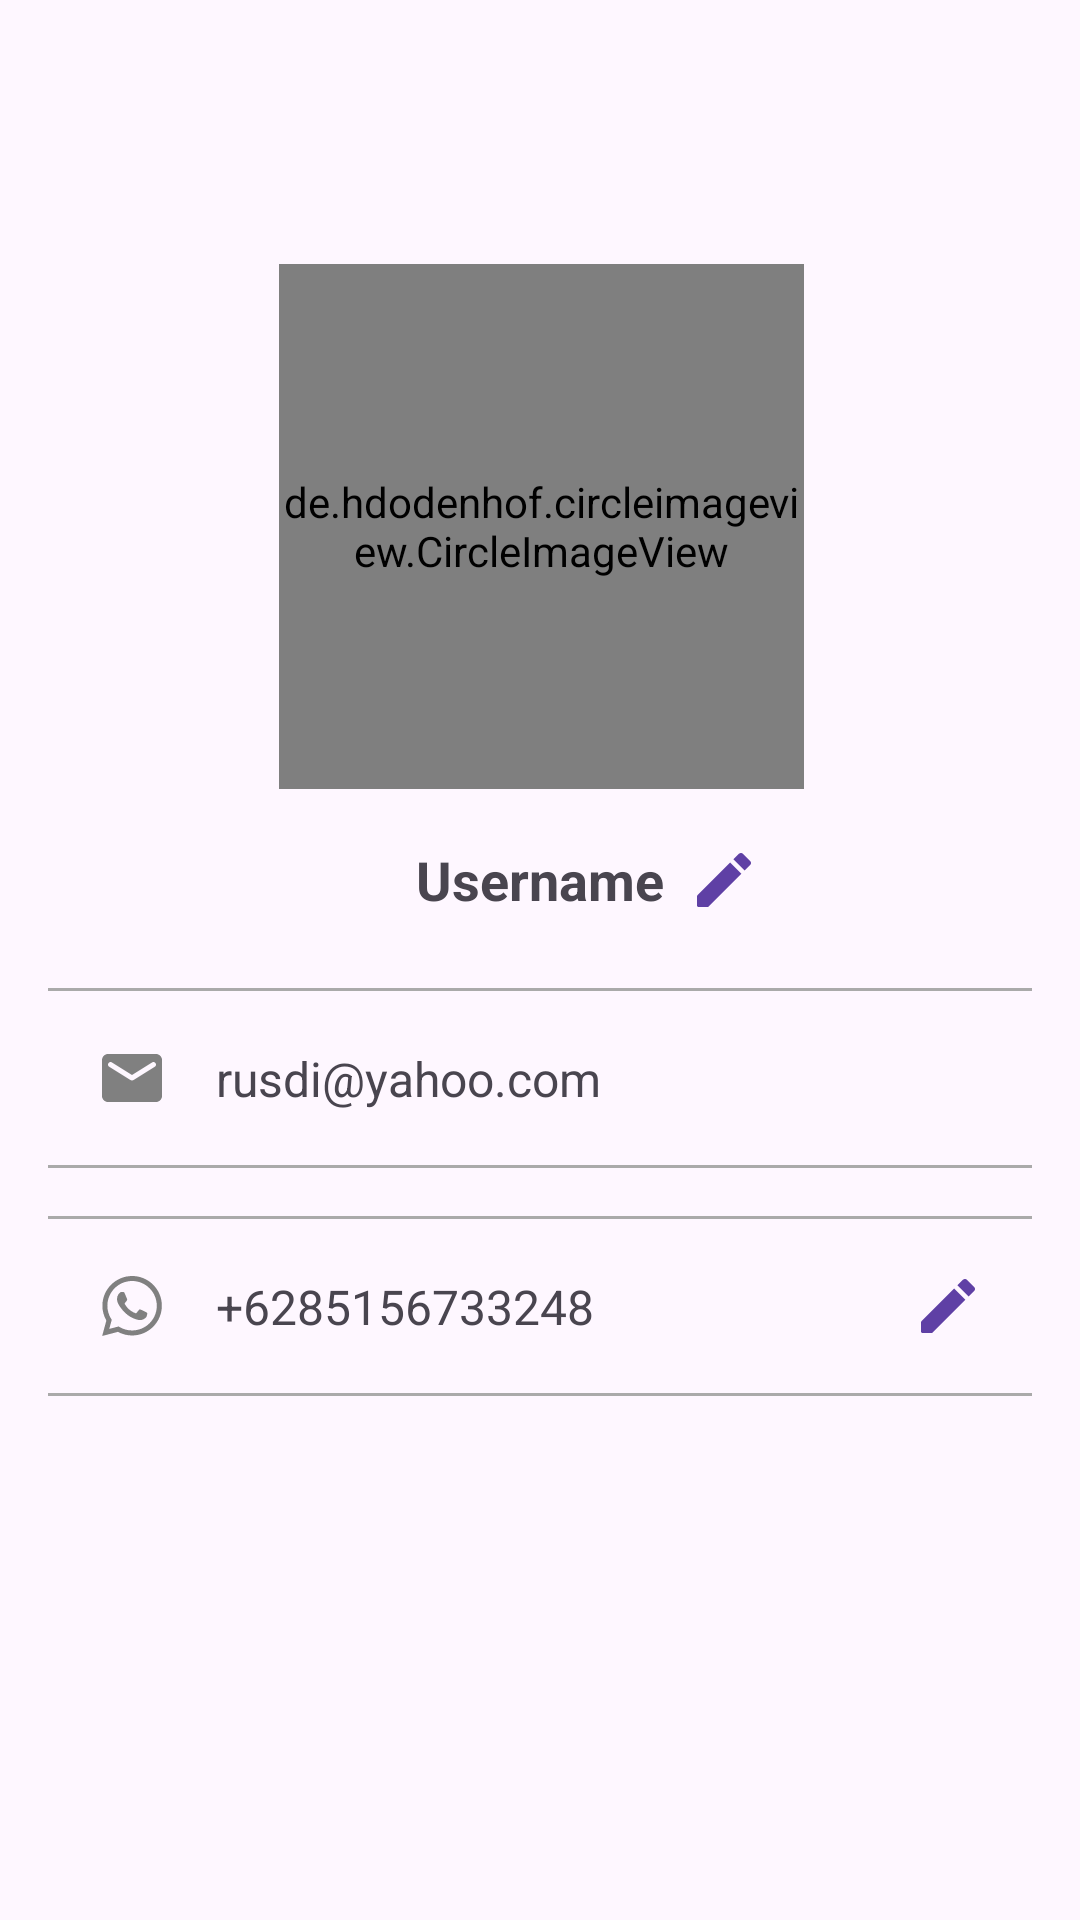

Named icons in this screenshot (1080*1920) and their centers, [x,y]:
edit: [724,880]
email: [132,1078]
